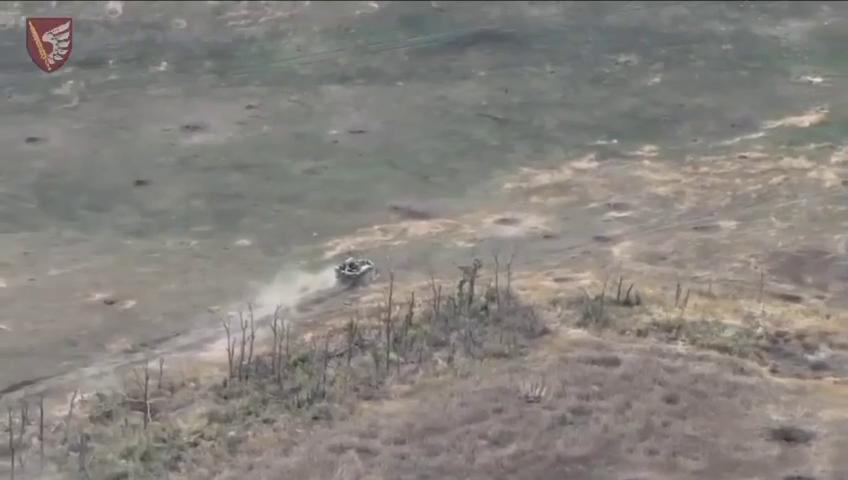tank: (331, 253, 380, 292)
